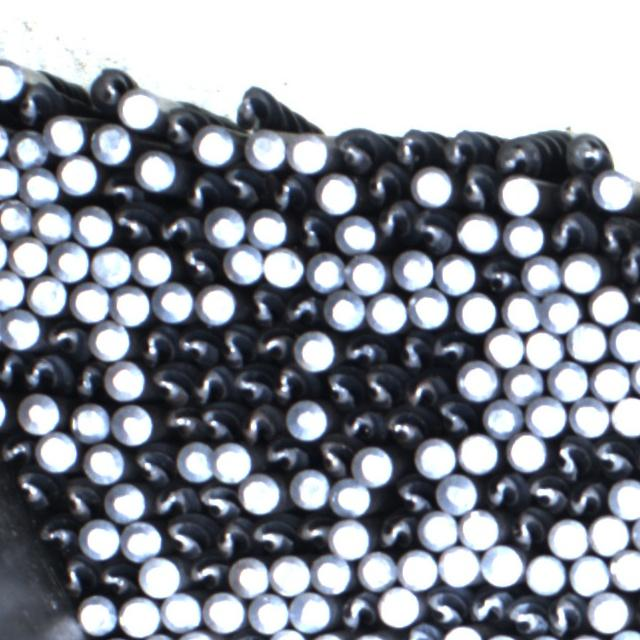tool: (14, 391, 63, 434), (106, 401, 152, 446), (291, 328, 337, 370), (244, 126, 287, 170), (117, 594, 160, 637), (174, 440, 218, 482), (193, 125, 238, 166), (262, 245, 305, 287), (44, 114, 87, 156), (136, 556, 179, 598), (79, 517, 121, 560), (8, 129, 51, 171), (376, 585, 420, 626), (270, 552, 311, 596), (458, 431, 500, 473), (566, 320, 608, 362), (587, 589, 629, 631), (587, 283, 629, 325), (414, 436, 456, 478), (84, 441, 126, 483), (132, 243, 174, 285), (289, 130, 330, 173), (481, 543, 522, 586), (588, 513, 630, 554), (91, 121, 132, 163), (111, 284, 152, 326), (393, 249, 434, 291), (315, 173, 357, 214), (27, 275, 69, 316), (75, 594, 117, 635), (89, 319, 131, 360), (247, 591, 289, 632), (286, 397, 328, 438), (153, 282, 195, 323), (202, 591, 244, 632), (35, 432, 78, 472), (548, 360, 589, 401), (438, 545, 479, 586), (435, 472, 476, 513), (568, 553, 609, 594), (457, 291, 498, 332), (524, 553, 565, 594), (160, 591, 201, 632), (73, 204, 114, 245), (417, 510, 459, 550), (346, 254, 388, 294), (437, 252, 477, 294), (460, 507, 500, 549), (410, 165, 452, 205), (548, 516, 588, 558), (204, 207, 246, 247), (503, 216, 545, 256), (197, 282, 237, 324), (57, 154, 99, 194), (238, 474, 280, 514), (104, 482, 146, 522), (101, 360, 143, 400), (118, 89, 161, 128), (398, 549, 438, 590), (569, 397, 610, 437), (590, 360, 630, 401), (70, 282, 111, 322), (368, 291, 408, 332), (91, 245, 132, 285), (499, 174, 540, 214), (561, 253, 602, 293), (135, 150, 176, 190), (457, 362, 499, 401), (122, 519, 161, 561), (289, 592, 332, 630), (10, 236, 50, 276), (527, 397, 567, 437), (222, 243, 262, 283), (307, 252, 347, 292), (325, 290, 365, 330), (356, 550, 396, 590), (354, 444, 394, 484), (542, 291, 581, 332), (331, 477, 372, 516), (312, 554, 353, 593), (335, 214, 376, 253), (501, 291, 540, 331), (484, 327, 523, 367), (51, 241, 90, 281), (482, 398, 522, 437), (410, 288, 449, 328), (506, 431, 546, 470), (34, 203, 73, 243), (456, 214, 496, 253), (247, 207, 287, 246), (69, 402, 109, 441), (593, 170, 634, 208), (328, 518, 369, 556), (214, 441, 251, 483), (523, 329, 562, 368), (291, 470, 330, 508), (522, 256, 560, 294), (3, 311, 41, 349), (505, 365, 543, 402), (608, 477, 640, 518), (609, 320, 640, 362), (21, 166, 56, 203), (610, 548, 640, 590), (0, 198, 34, 235), (610, 394, 640, 435), (0, 270, 25, 309), (0, 61, 24, 99), (0, 161, 19, 199)
tool_b: (497, 129, 566, 170), (333, 126, 383, 170), (234, 81, 276, 130), (88, 67, 133, 112), (408, 206, 453, 251), (8, 467, 56, 509), (442, 127, 493, 165), (592, 210, 637, 253), (542, 593, 588, 634), (159, 106, 201, 150), (548, 436, 592, 478), (239, 402, 285, 442), (394, 128, 441, 167), (224, 164, 266, 207), (22, 354, 74, 388), (132, 442, 175, 483), (505, 507, 546, 550), (336, 588, 377, 631), (180, 167, 222, 208), (60, 474, 101, 516), (524, 471, 565, 513), (469, 586, 510, 628), (424, 584, 467, 624), (113, 204, 154, 245), (568, 129, 610, 169), (38, 513, 78, 555), (163, 519, 211, 554), (507, 593, 549, 633), (455, 168, 494, 211), (16, 82, 54, 126), (260, 438, 310, 471), (365, 162, 405, 203), (565, 473, 606, 513), (548, 213, 592, 250), (176, 243, 220, 280), (432, 396, 476, 433), (250, 516, 295, 552), (360, 367, 401, 406), (157, 205, 200, 242), (553, 172, 596, 209), (177, 324, 216, 364), (231, 363, 271, 402), (189, 365, 230, 403), (383, 404, 424, 442), (134, 325, 176, 362), (147, 366, 189, 403), (476, 256, 519, 292), (194, 481, 237, 517), (217, 322, 252, 366), (57, 556, 96, 595), (98, 170, 140, 206), (340, 406, 383, 441), (319, 436, 354, 479), (270, 172, 308, 211), (395, 475, 434, 513), (199, 403, 239, 440), (96, 556, 136, 593), (402, 370, 445, 404), (242, 286, 280, 324), (324, 368, 362, 406), (42, 319, 83, 354), (375, 513, 416, 548), (148, 484, 194, 515), (283, 290, 322, 326), (214, 518, 249, 558), (296, 211, 329, 253), (375, 200, 411, 238), (252, 326, 290, 362), (591, 437, 627, 475), (487, 470, 525, 506), (341, 333, 385, 364), (158, 404, 200, 436), (294, 510, 331, 546), (428, 331, 472, 361), (270, 365, 307, 400), (397, 332, 430, 369), (0, 430, 33, 467), (185, 555, 225, 585), (610, 242, 640, 281), (72, 361, 100, 397), (0, 349, 23, 388), (400, 620, 441, 640)
